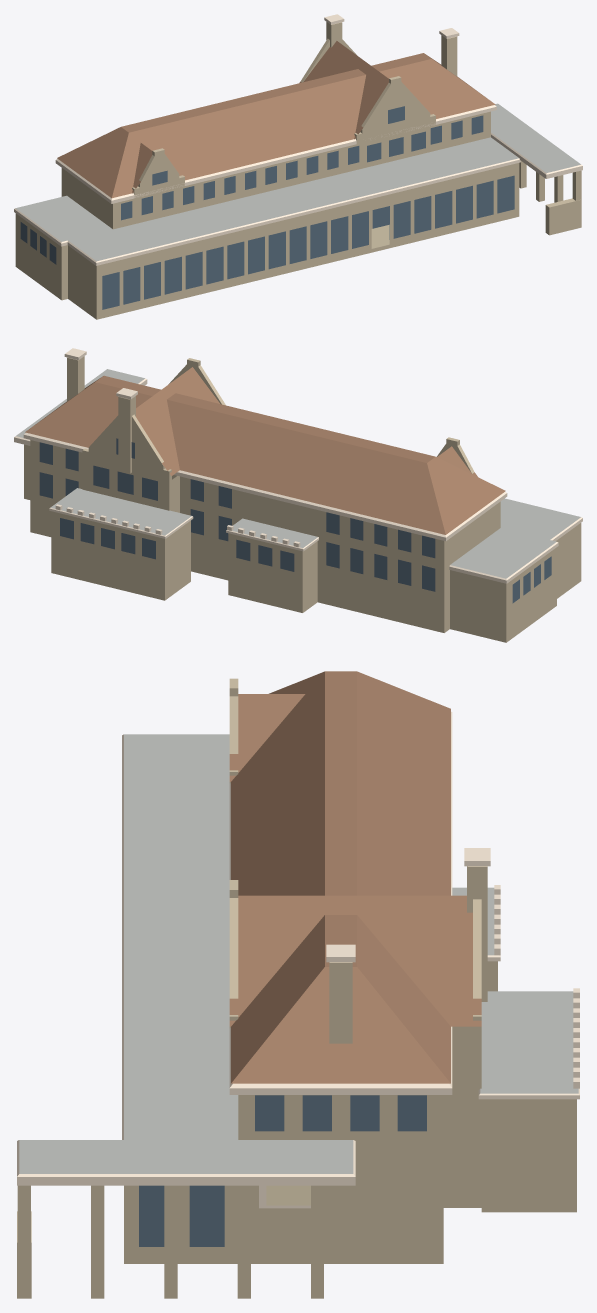
Rendered from cola-union-station.glb.
The picture shows the model from 3 angles, top to bottom: view 1: azimuth 30°, elevation 25°; view 2: azimuth 150°, elevation 25°; view 3: azimuth 270°, elevation 25°; orthographic projection. The views are drawn at different scales.
Visible parts, largest first — view 1: Union Station; view 2: Union Station; view 3: Union Station.
Part boxes in pixels (left/top/right/bottom): Union Station: left=14, top=14, right=582, bottom=319; Union Station: left=14, top=348, right=582, bottom=642; Union Station: left=17, top=671, right=579, bottom=1298.
Size of the model in its own units: 73.55 by 23.7 by 38.4.
